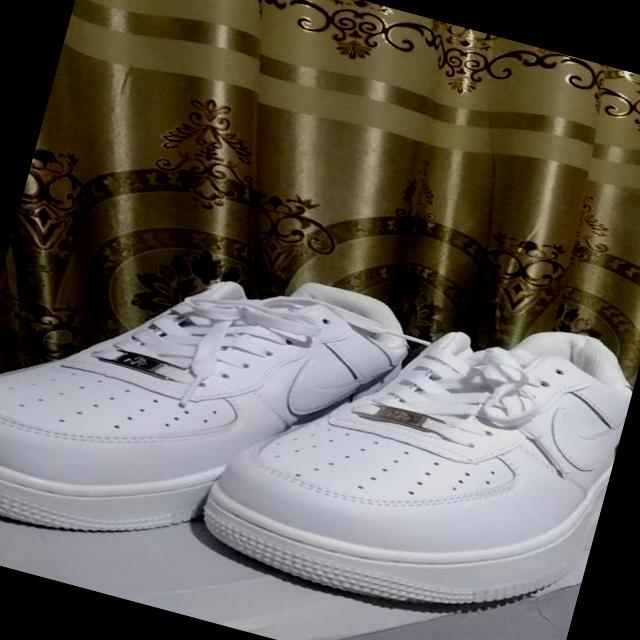nike_fake_airforce: (0, 196, 508, 635), (181, 245, 640, 640)
